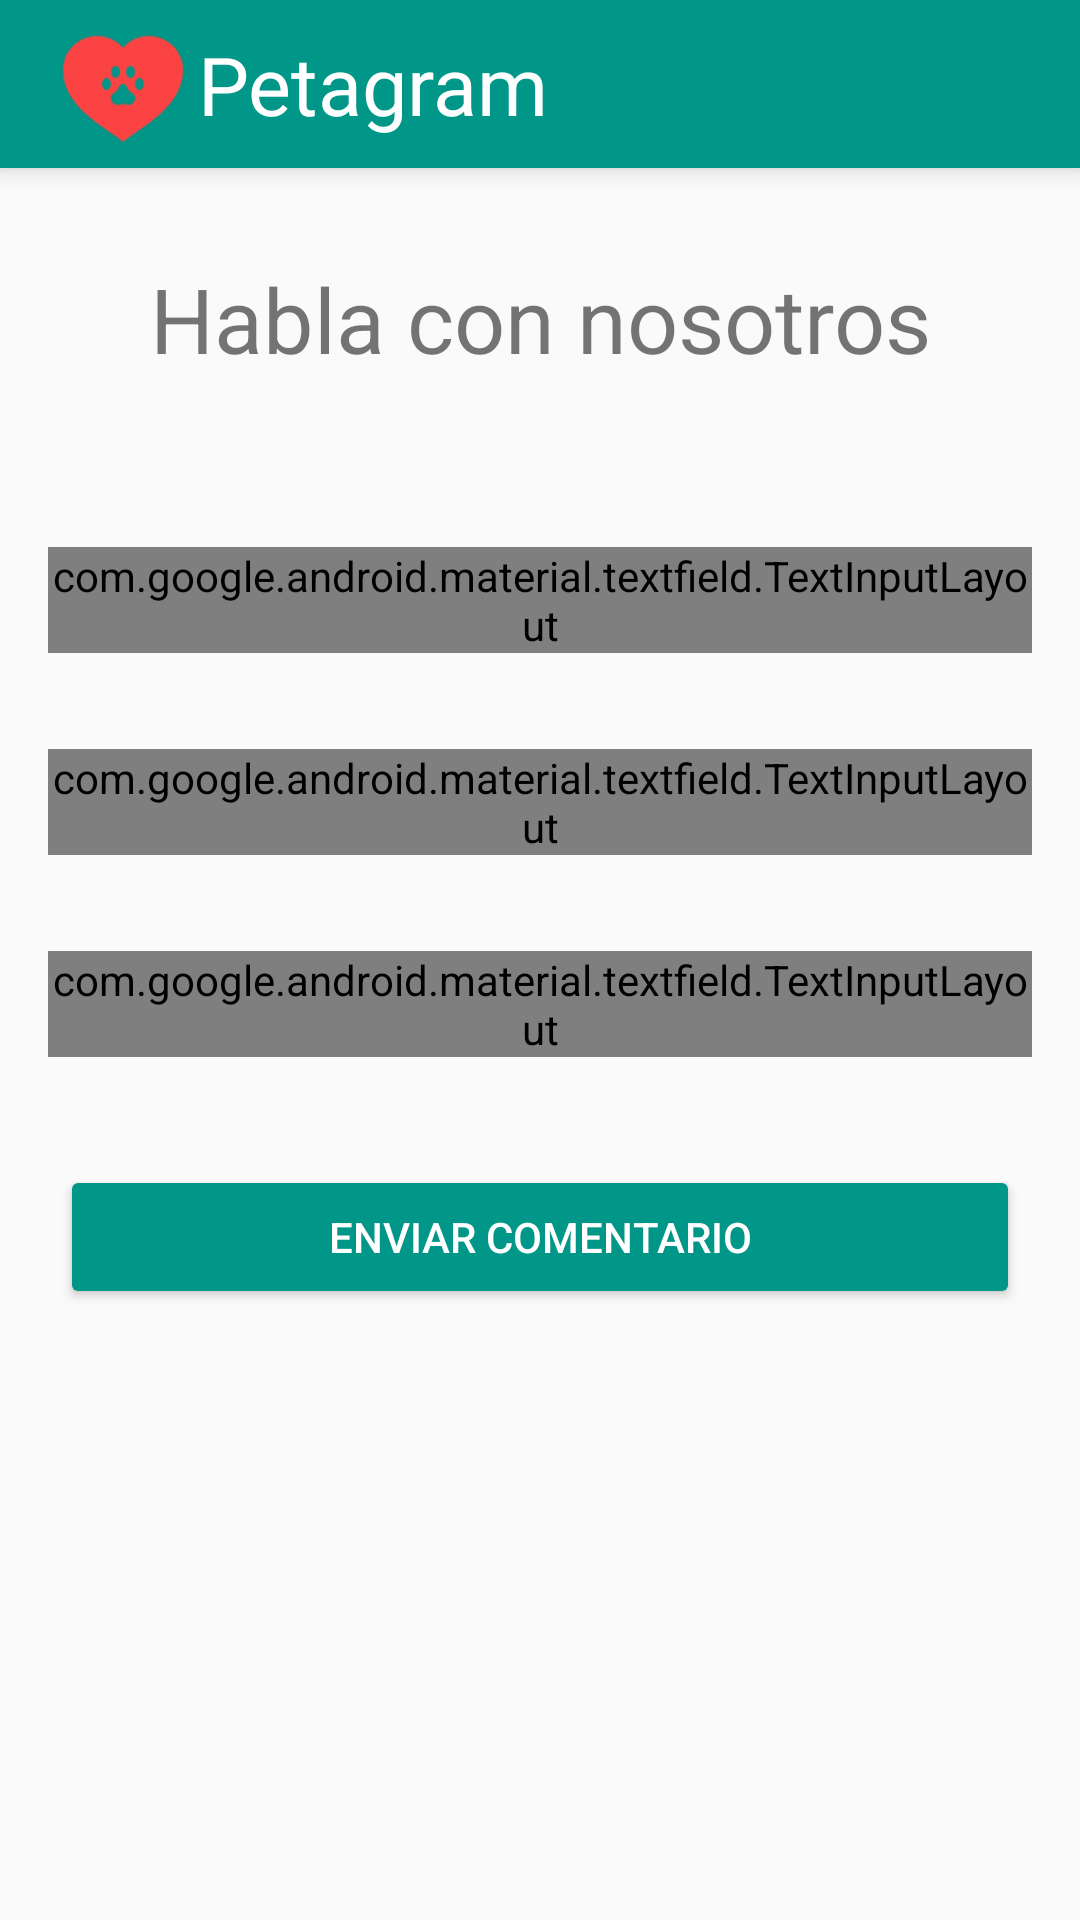

Locate icon controls on the screen. Image size 1080w x 1920h, boxes as (x1, y1, x2, y2).
corazon: (62, 35, 184, 142)
